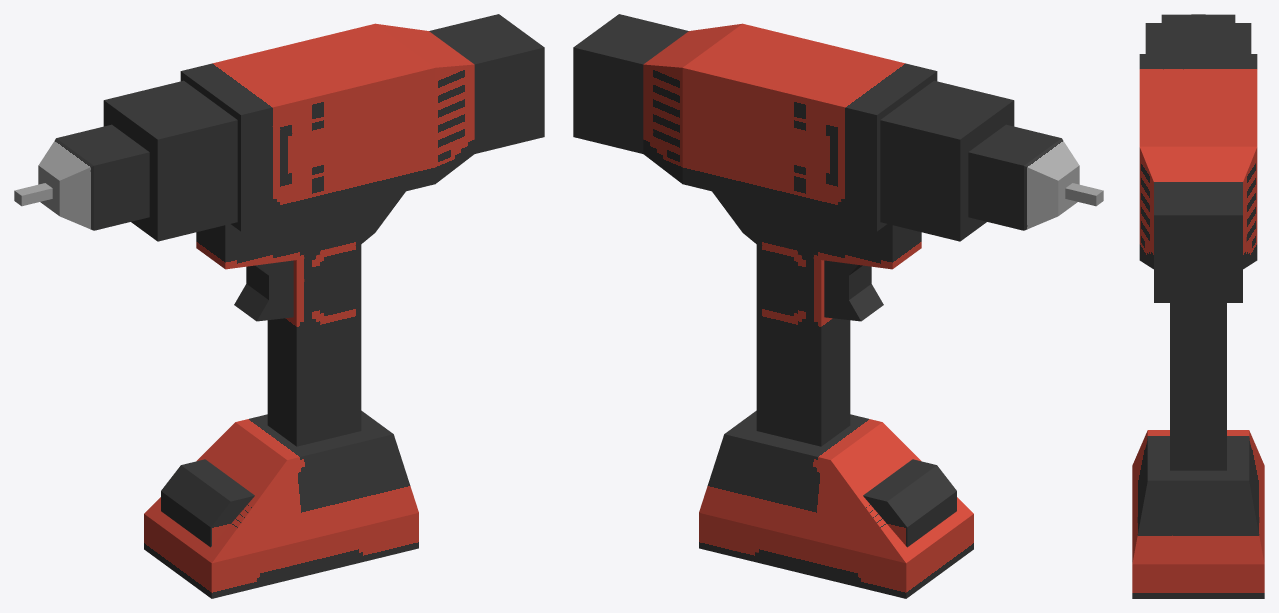
The model's file is drill.glb.
3 views of the same model, side by side, from view 1: azimuth 30°, elevation 25°; view 2: azimuth 150°, elevation 25°; view 3: azimuth 270°, elevation 25° (orthographic). The views are drawn at different scales.
Visible parts, largest first — view 1: Cube; view 2: Cube; view 3: Cube.
Part boxes in pixels (box(x1,y1,x2,y2)): Cube: box(14, 14, 544, 598); Cube: box(573, 14, 1103, 598); Cube: box(1132, 14, 1264, 598).
Size of the model in its own units: 25.78 by 23.13 by 6.
Materials: 1 (1 with a texture image).
